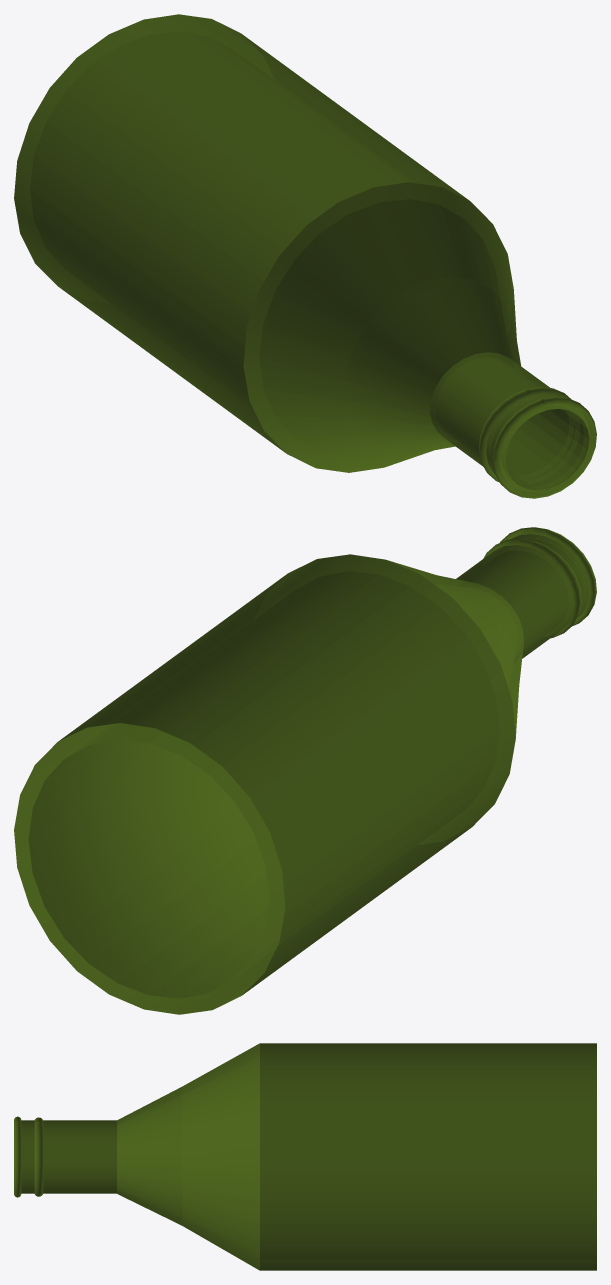
File: model_align.obj
3 views of the same model, one above another, from view 1: azimuth 30°, elevation 25°; view 2: azimuth 150°, elevation 25°; view 3: azimuth 270°, elevation 25° (orthographic). The views are drawn at different scales.
Visible parts, largest first — view 1: mesh1_mesh1-geometry; view 2: mesh1_mesh1-geometry; view 3: mesh1_mesh1-geometry.
Boxes of the visible parts, x1,y1,x2,y2 form: mesh1_mesh1-geometry: [14, 14, 596, 498]; mesh1_mesh1-geometry: [14, 527, 596, 1014]; mesh1_mesh1-geometry: [14, 1043, 596, 1270].
Bounding box in the file's own units: 0.0951 × 0.0951 × 0.2418.
